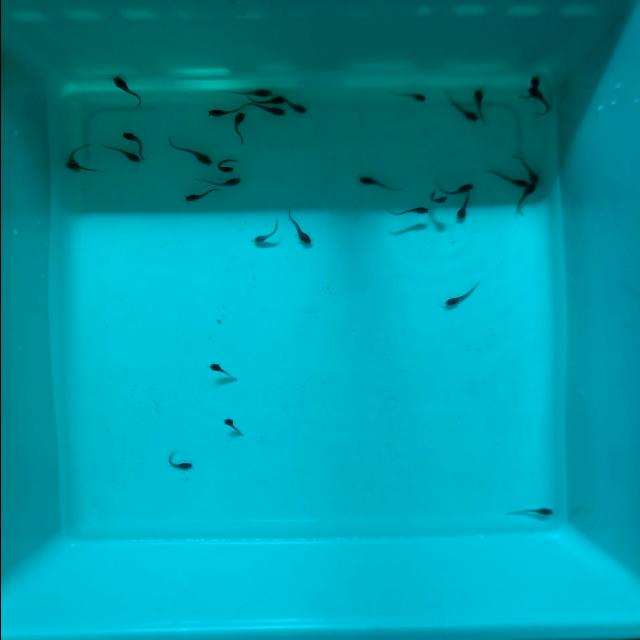lele: (161, 134, 214, 168), (438, 91, 479, 126), (439, 279, 482, 311), (107, 74, 146, 109), (93, 140, 140, 166), (118, 126, 153, 160), (510, 153, 542, 185), (283, 209, 310, 246), (484, 168, 528, 189), (524, 85, 553, 114), (356, 174, 400, 193), (516, 72, 540, 106), (205, 360, 240, 383), (511, 184, 536, 215), (249, 222, 282, 245), (180, 186, 222, 204), (243, 101, 287, 118), (204, 103, 246, 119), (383, 87, 427, 102), (472, 90, 488, 128), (191, 177, 241, 189), (509, 506, 555, 518), (453, 192, 472, 221), (62, 161, 103, 174), (281, 98, 309, 117), (161, 455, 192, 471), (217, 88, 271, 97), (437, 182, 471, 196), (383, 206, 429, 216), (219, 417, 243, 436), (66, 145, 82, 173), (232, 112, 245, 146), (216, 158, 233, 174), (425, 192, 446, 204), (248, 97, 285, 103)
